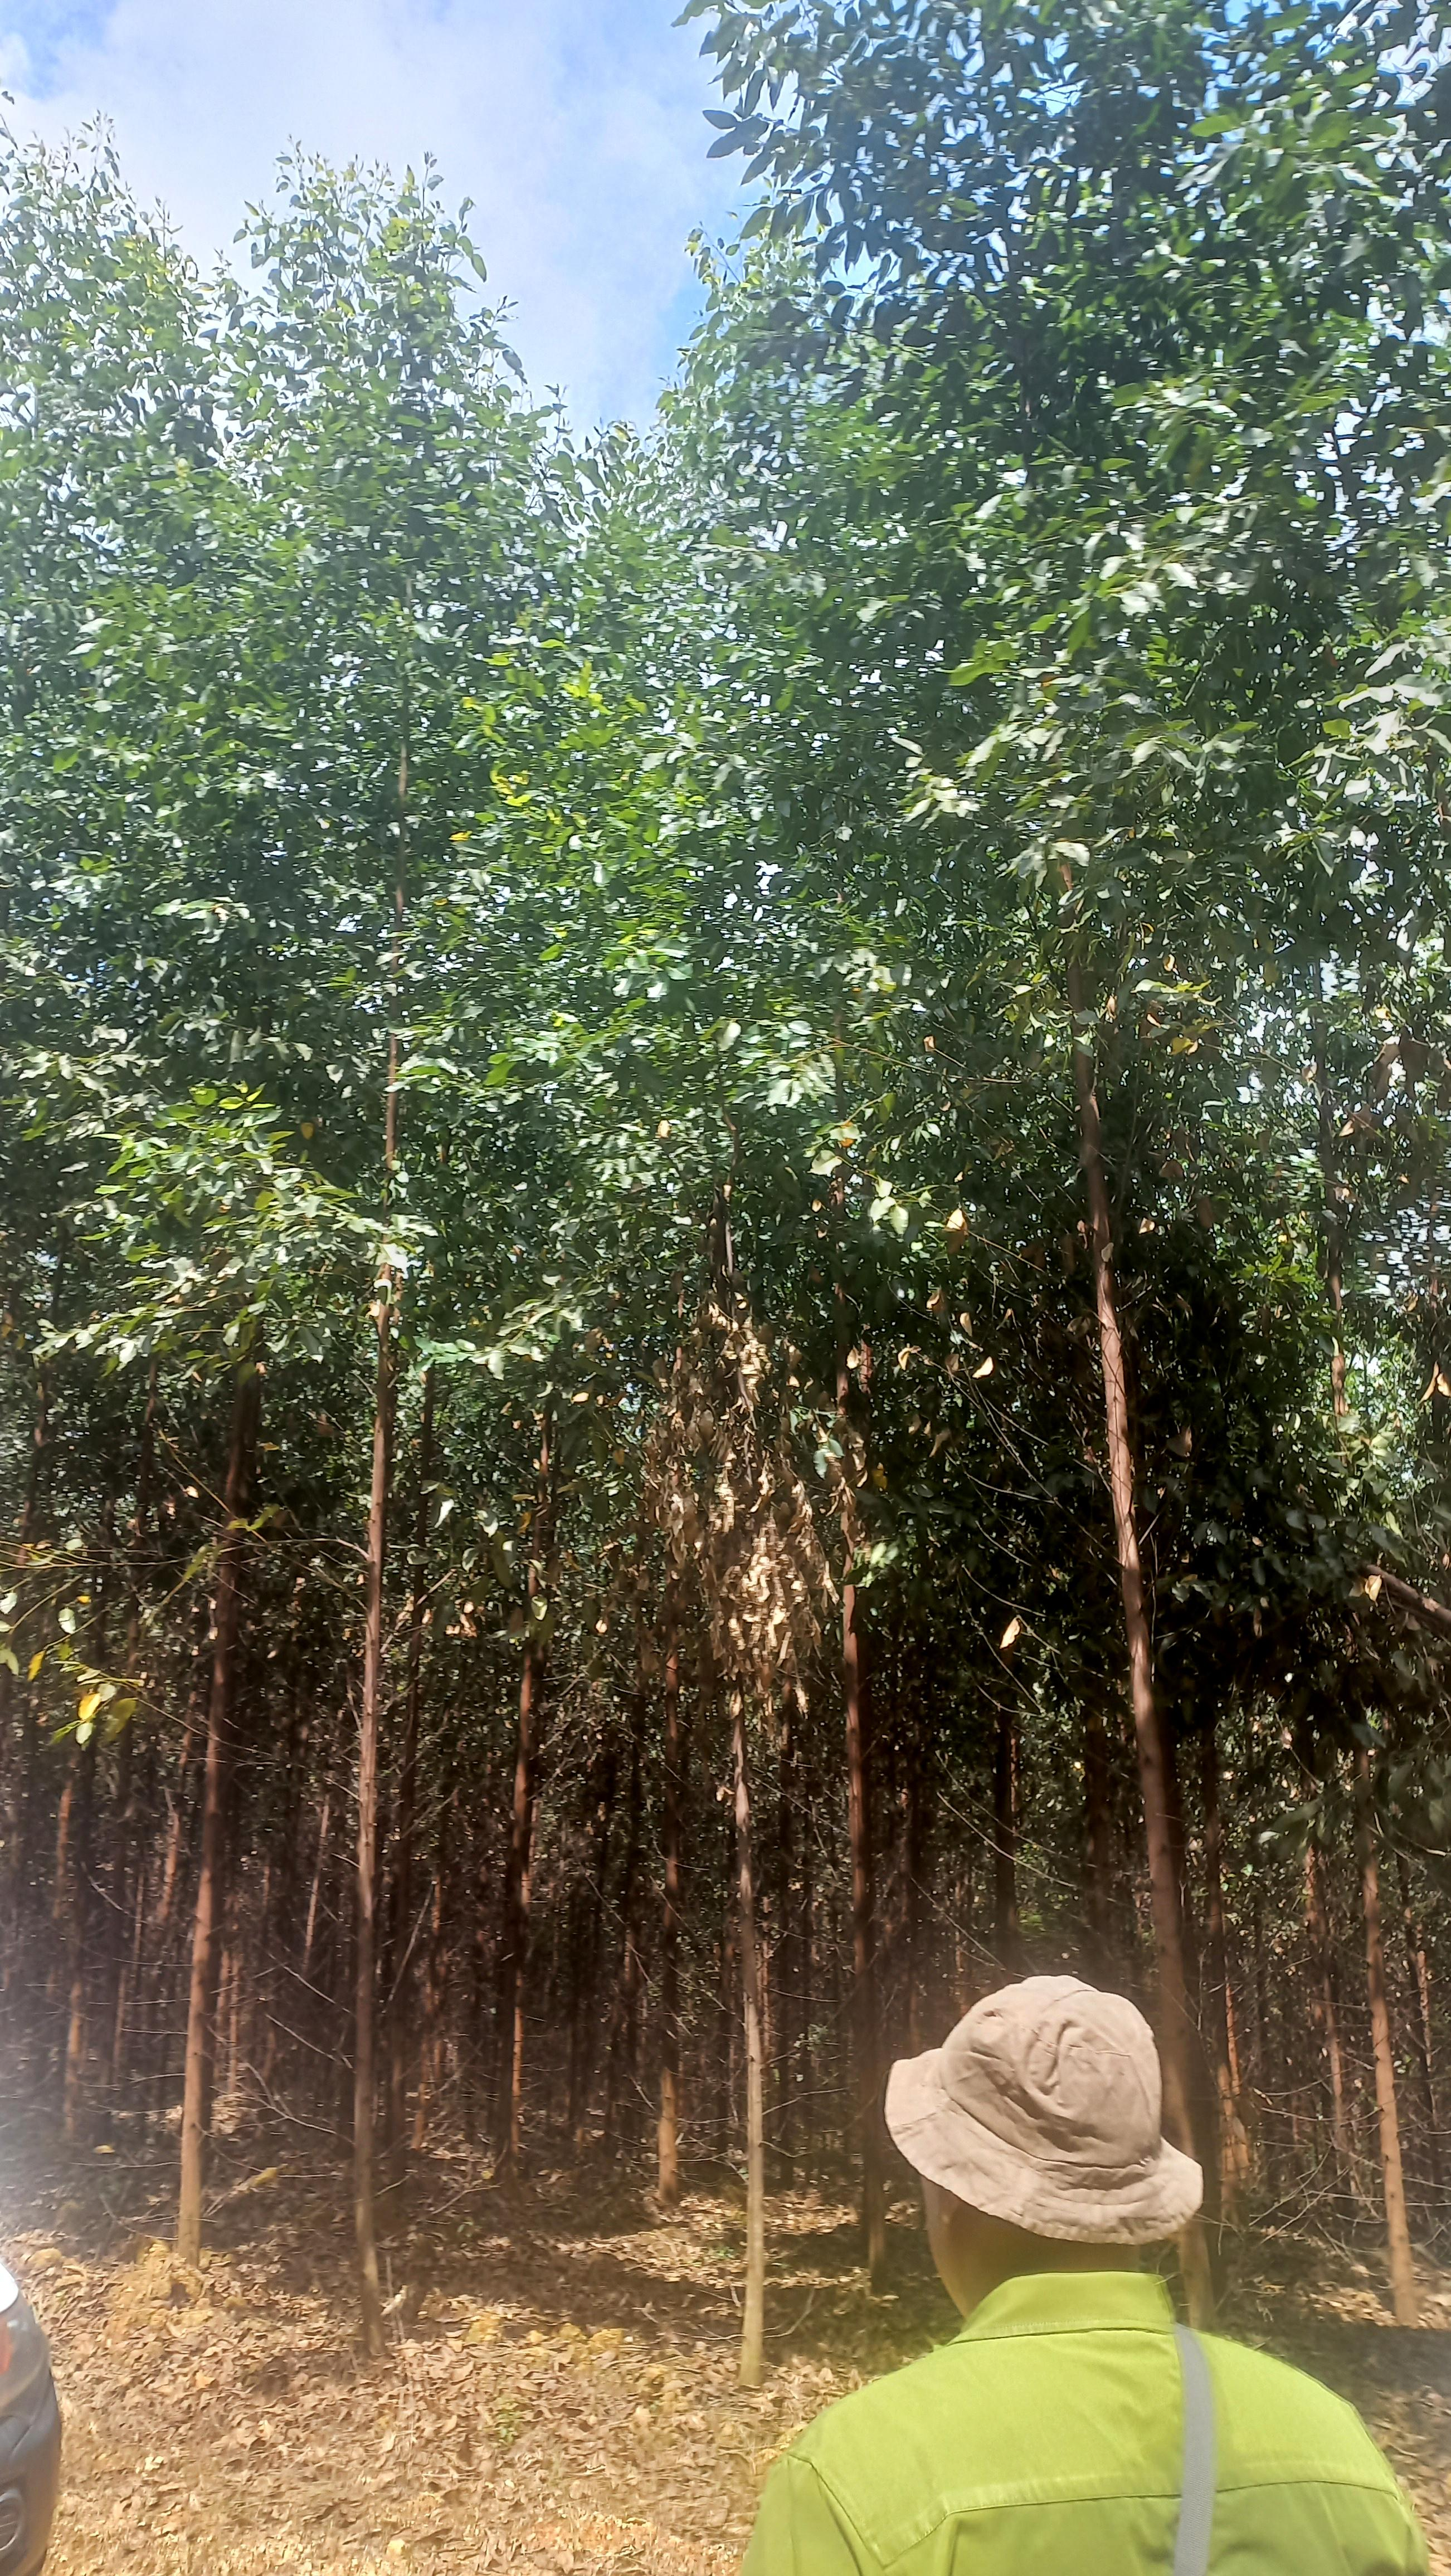Wither Tree Parts: (609, 1293, 915, 1867)
